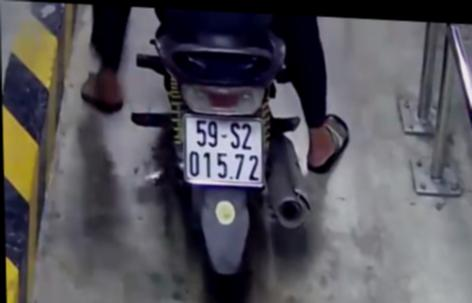License_Plate: (174, 109, 271, 197)
